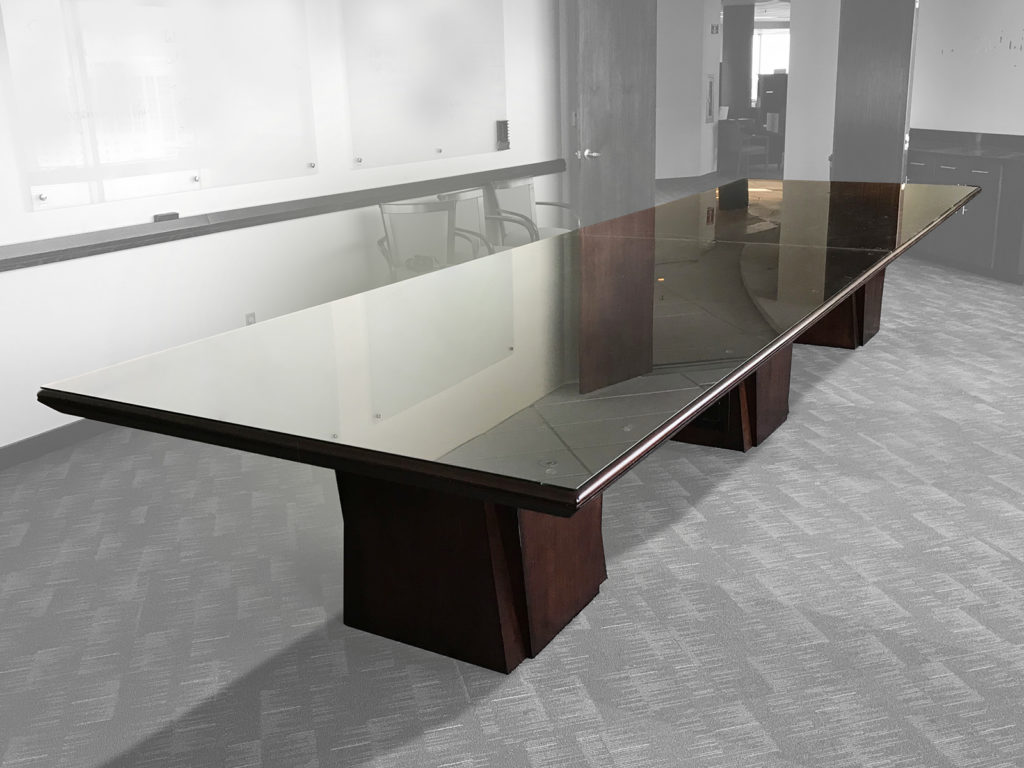conference_table: (37, 178, 982, 674)
